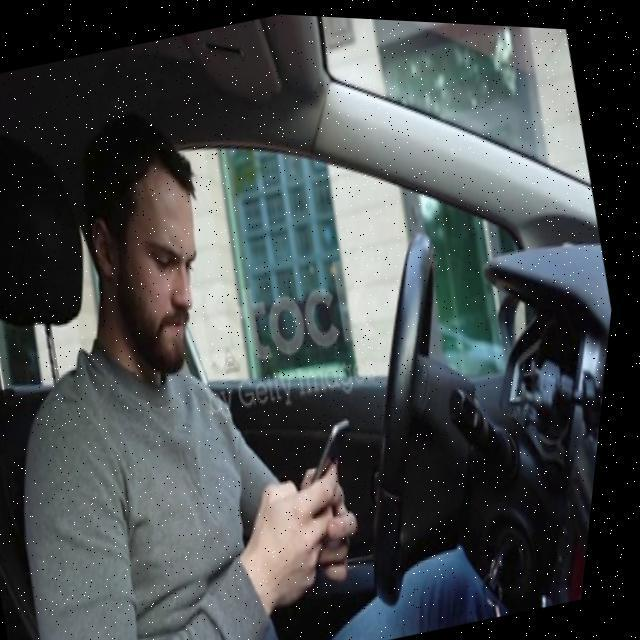PhoneCall: (301, 414, 377, 498)
